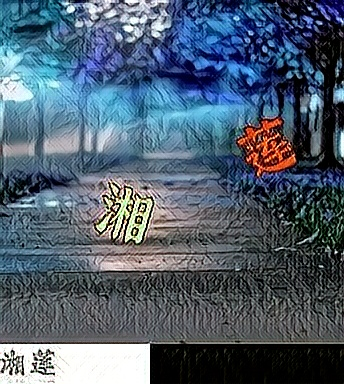C1AB: (236, 115, 299, 181)
CFE6: (94, 179, 157, 245)
